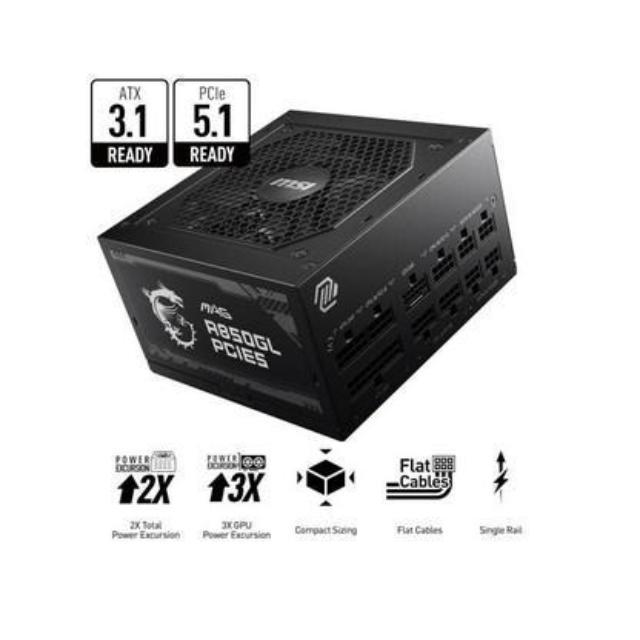PSU: (90, 98, 525, 442)
